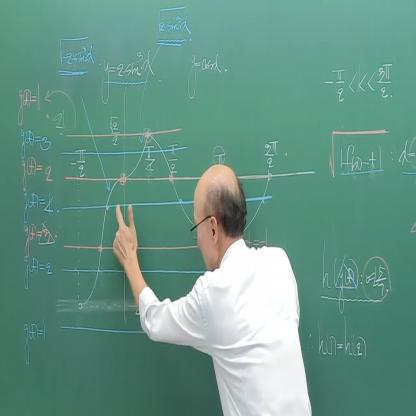streamer: (112, 163, 312, 416)
